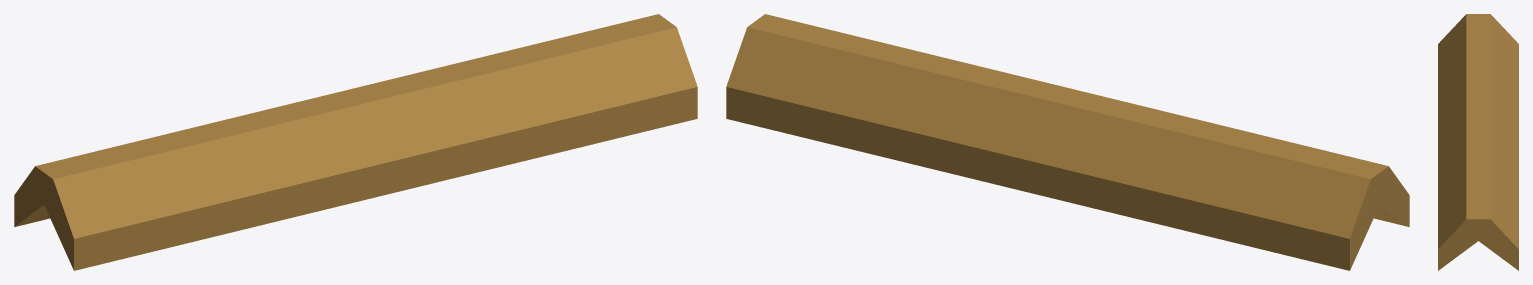
File: bound_ridge.glb
The picture shows the model from 3 angles, left to right: view 1: azimuth 30°, elevation 25°; view 2: azimuth 150°, elevation 25°; view 3: azimuth 270°, elevation 25°; orthographic projection. The views are drawn at different scales.
Parts seen in each view (by area): view 1: Bound ridge; view 2: Bound ridge; view 3: Bound ridge.
Boxes of the visible parts, <box> form: Bound ridge: <box>14,14,697,270</box>; Bound ridge: <box>726,14,1409,270</box>; Bound ridge: <box>1438,14,1518,270</box>.
Size of the model in its own units: 1 by 0.117 by 0.166.
